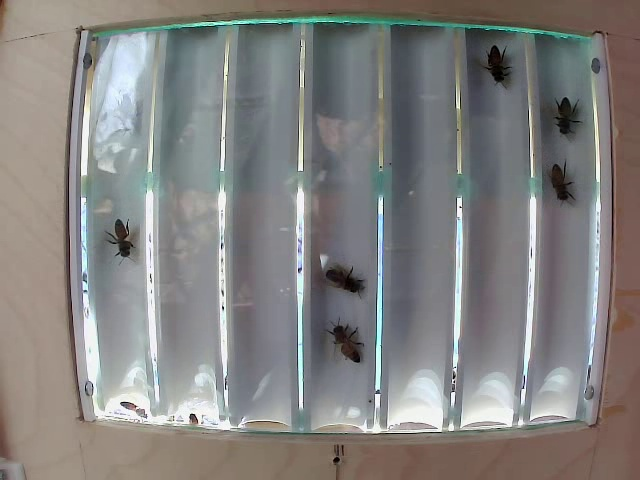bee: (323, 325, 372, 368), (327, 255, 365, 298), (534, 160, 573, 195), (483, 37, 514, 80), (115, 215, 141, 266), (553, 94, 578, 132)
